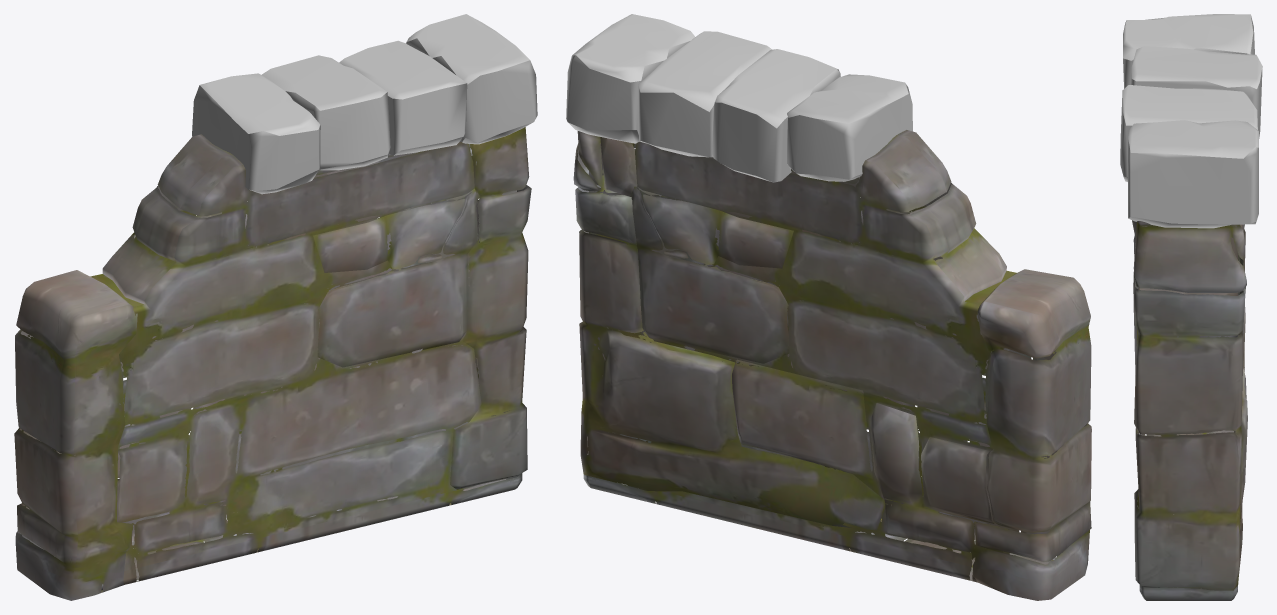
The picture shows the model from 3 angles, left to right: view 1: azimuth 30°, elevation 25°; view 2: azimuth 150°, elevation 25°; view 3: azimuth 270°, elevation 25°; orthographic projection. The views are drawn at different scales.
Visible parts, largest first — view 1: SM_River_Bridge_Wall_01_v4_LOD0; view 2: SM_River_Bridge_Wall_01_v4_LOD0; view 3: SM_River_Bridge_Wall_01_v4_LOD0.
Boxes of the visible parts, x1,y1,x2,y2 form: SM_River_Bridge_Wall_01_v4_LOD0: (14, 14, 537, 600); SM_River_Bridge_Wall_01_v4_LOD0: (566, 14, 1091, 600); SM_River_Bridge_Wall_01_v4_LOD0: (1120, 14, 1262, 600).
Bounding box in the file's own units: 2.05 × 1.8 × 0.5091.
